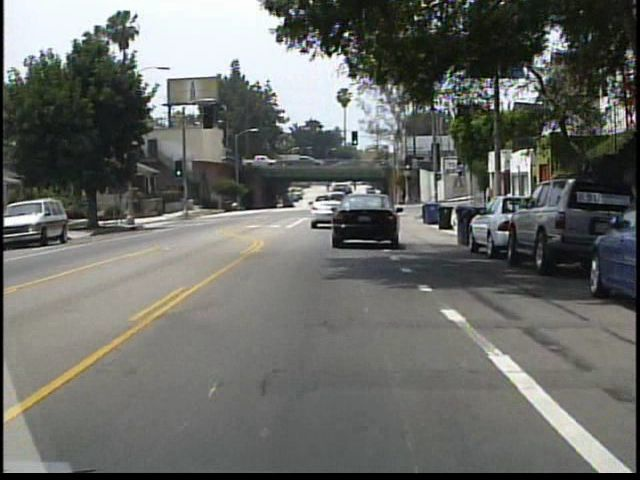person: (69, 201, 82, 230)
